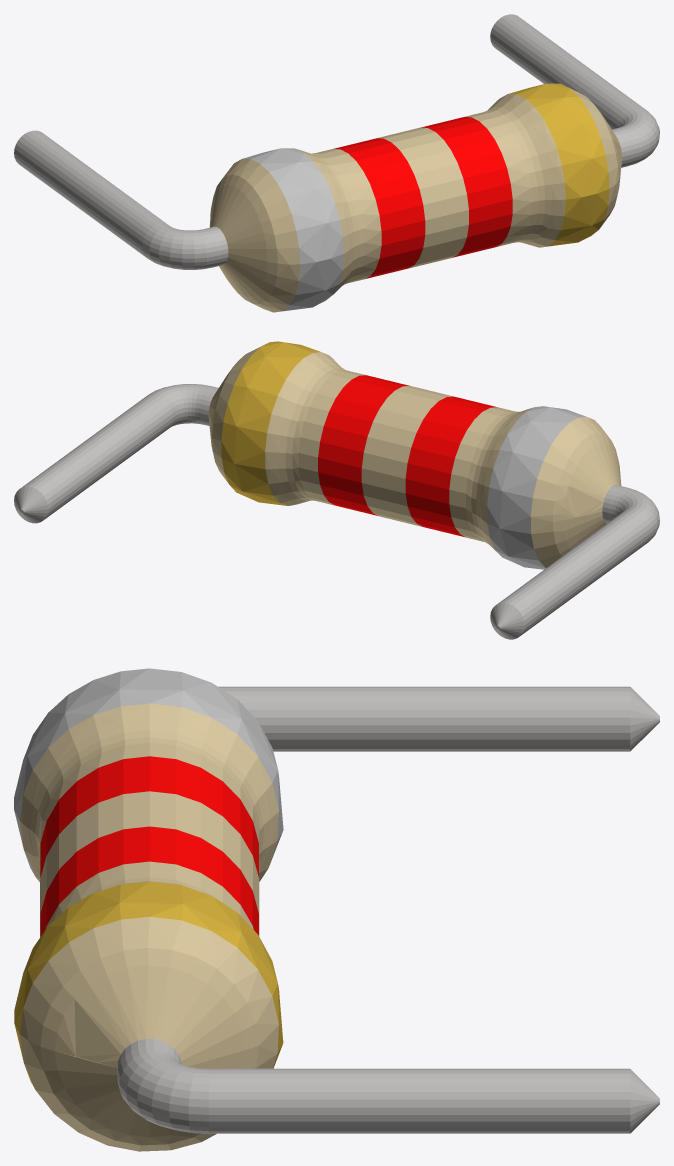
Rendered from Yageo CFR-25 Resistor Axial P7.62mm 8,2 kOhm.obj.
3 renders of one model, top to bottom at view 1: azimuth 30°, elevation 25°; view 2: azimuth 150°, elevation 25°; view 3: azimuth 270°, elevation 25°, orthographic. The views are drawn at different scales.
Parts seen in each view (by area): view 1: Yageo_CFR-25_Resistor_Axial_P7.62mm_8,2_kOhm; view 2: Yageo_CFR-25_Resistor_Axial_P7.62mm_8,2_kOhm; view 3: Yageo_CFR-25_Resistor_Axial_P7.62mm_8,2_kOhm.
Boxes of the visible parts, x1,y1,x2,y2 form: Yageo_CFR-25_Resistor_Axial_P7.62mm_8,2_kOhm: (14,14,659,312); Yageo_CFR-25_Resistor_Axial_P7.62mm_8,2_kOhm: (14,341,659,639); Yageo_CFR-25_Resistor_Axial_P7.62mm_8,2_kOhm: (14,668,659,1151).
Size of the model in its own units: 0.0271 by 0.00747 by 0.018.
